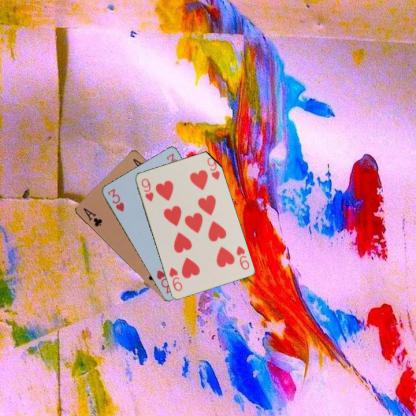3h: (104, 186, 126, 213)
9h: (234, 243, 250, 271), (138, 176, 155, 202)
Ac: (80, 205, 104, 228)
